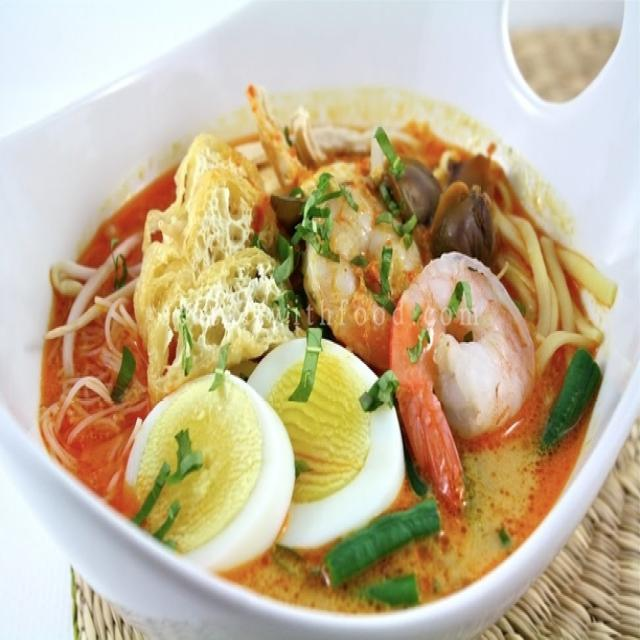面条主食: (14, 36, 638, 631)
